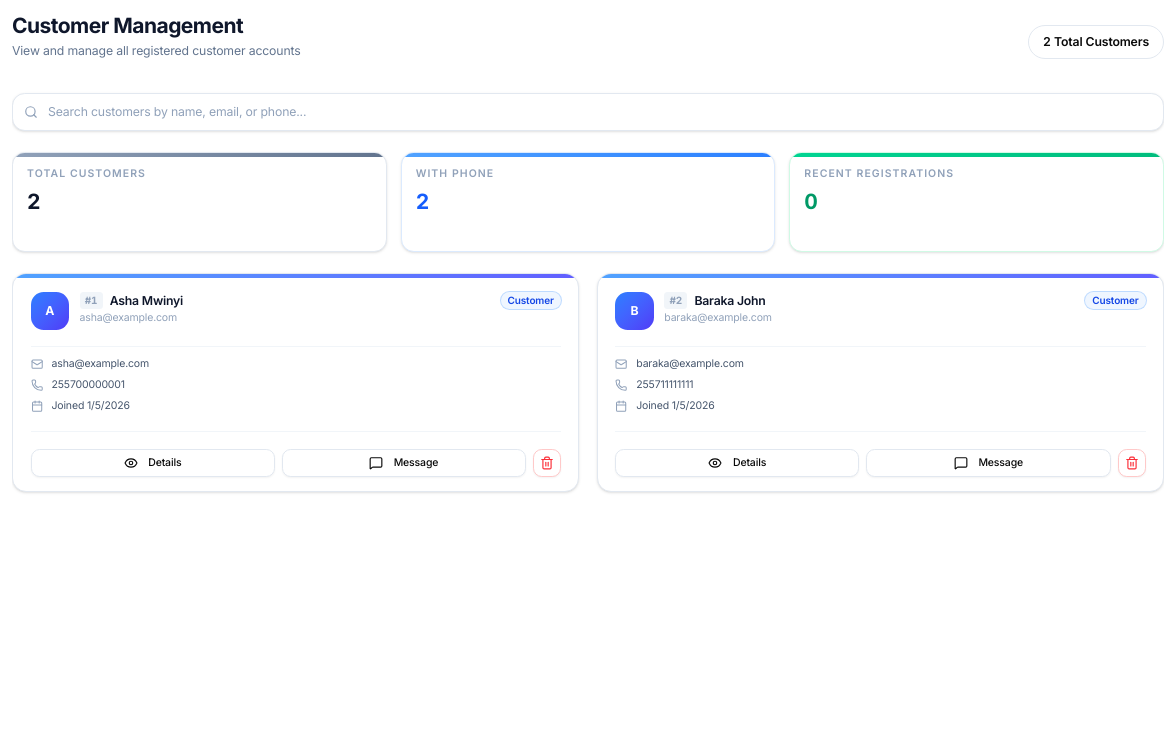
Test: CustomerManagementTab › search › shows the search-specific empty state when nothing matches
Check: the heading "Asha Mwinyi" is shown, box [110,293,183,308]
Type "no-such-customer" into the field with placeholder "Search customers by name, email, or phone...".
click(588, 112); type("no-such-customer")  # box [12,92,1164,131]
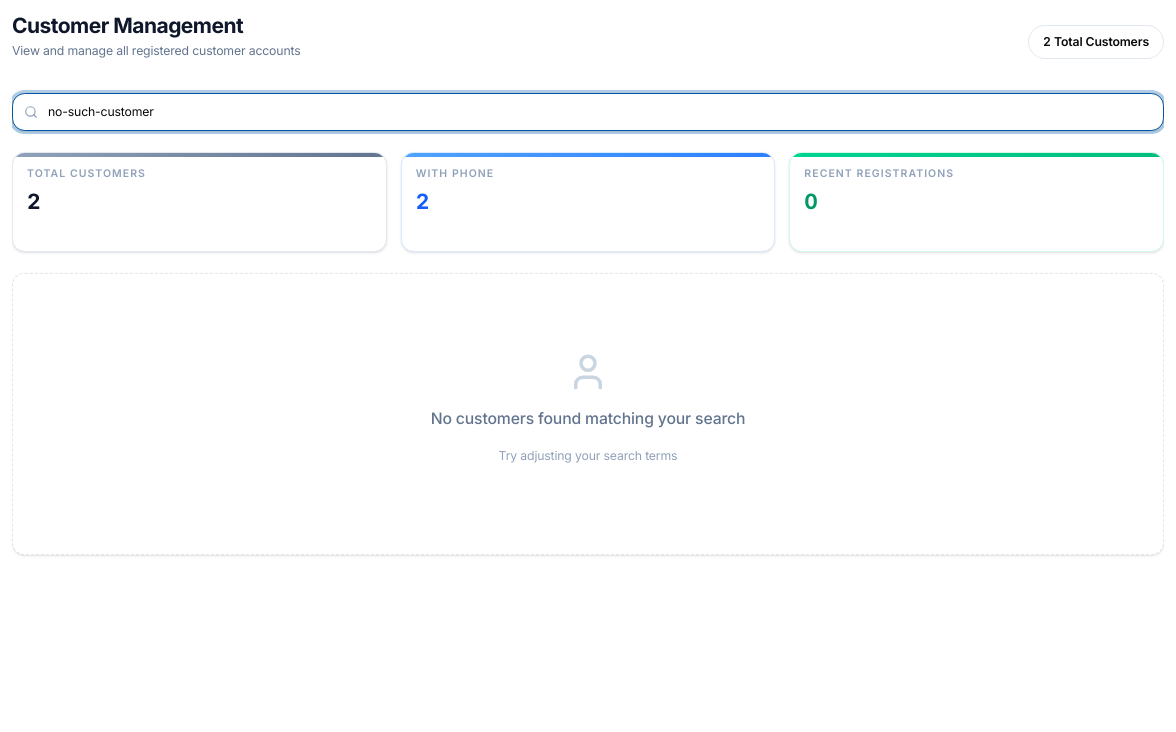
Check: the text "No customers found matching your search" is shown, box [431,409,745,428]
Check: the text "Try adjusting your search terms" is shown, box [499,448,677,463]
